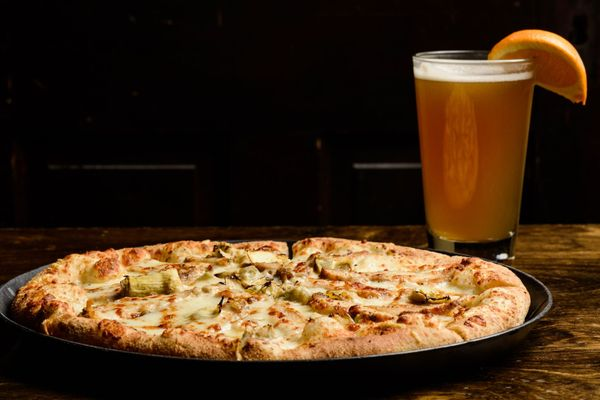pizza: (413, 34, 585, 261)
